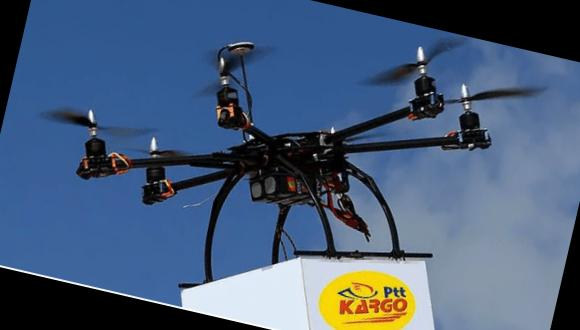drone: (24, 0, 569, 287)
